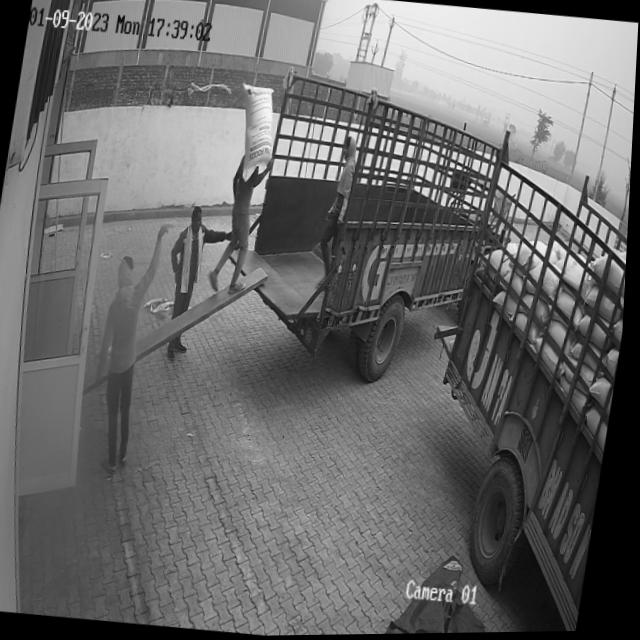sack: (231, 83, 282, 184)
